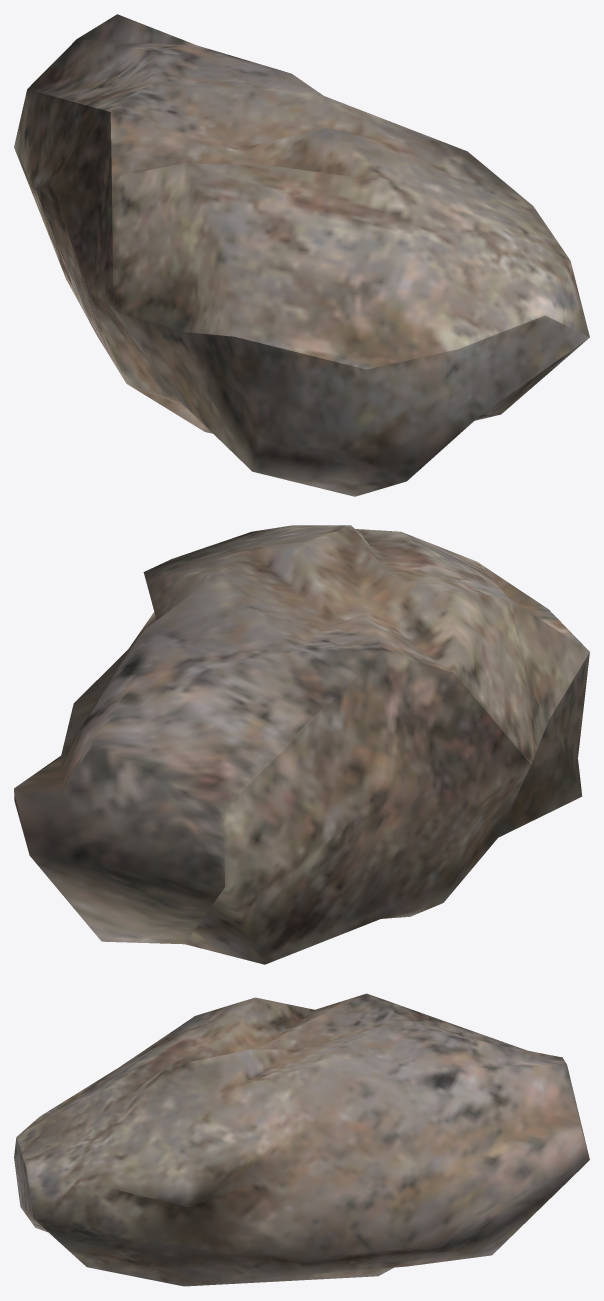
File: SM_Stone08.FBX
The picture shows the model from 3 angles, top to bottom: view 1: azimuth 30°, elevation 25°; view 2: azimuth 150°, elevation 25°; view 3: azimuth 270°, elevation 25°; orthographic projection. The views are drawn at different scales.
Visible parts, largest first — view 1: SM_Stone08; view 2: SM_Stone08; view 3: SM_Stone08.
Part boxes in pixels (x1,y1,x2,y2): SM_Stone08: [14, 14, 589, 496]; SM_Stone08: [14, 525, 589, 964]; SM_Stone08: [14, 993, 589, 1286].
Size of the model in its own units: 101 by 168 by 78.86.
